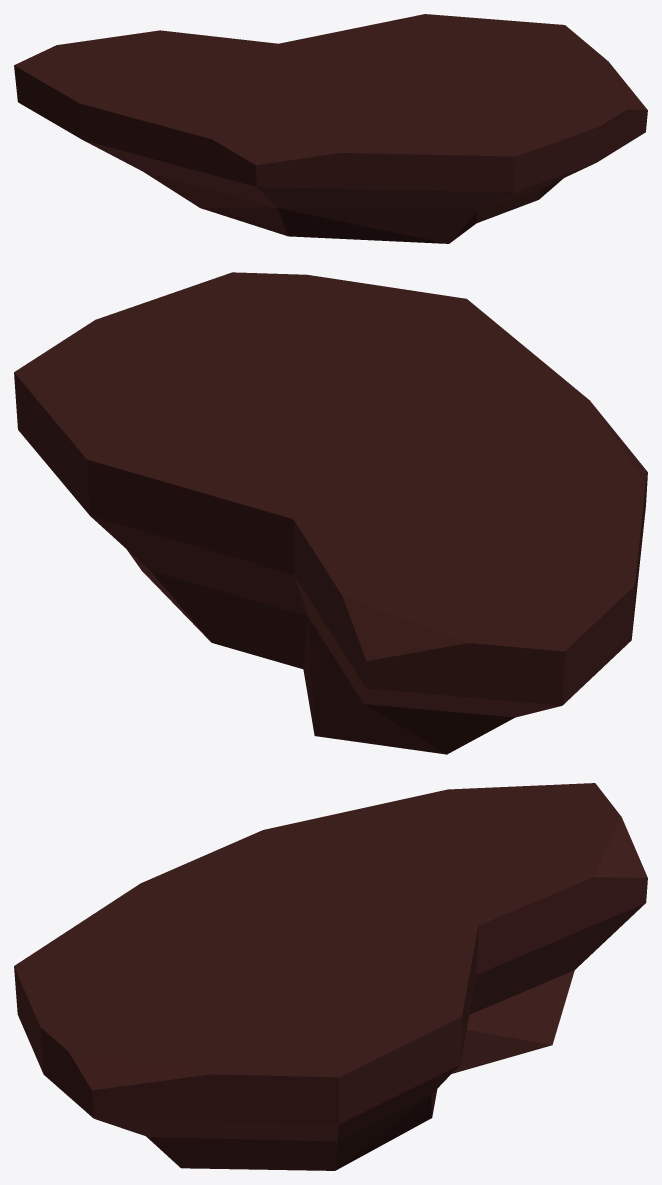
Rendered from Rock 03.FBX.
The picture shows the model from 3 angles, top to bottom: view 1: azimuth 30°, elevation 25°; view 2: azimuth 150°, elevation 25°; view 3: azimuth 270°, elevation 25°; orthographic projection. The views are drawn at different scales.
Visible parts, largest first — view 1: Plane001; view 2: Plane001; view 3: Plane001.
Boxes of the visible parts, left/top/right/bottom form: Plane001: left=14, top=14, right=647, bottom=243; Plane001: left=14, top=272, right=647, bottom=754; Plane001: left=14, top=783, right=647, bottom=1170.
Size of the model in its own units: 18.57 by 4.31 by 16.9.
